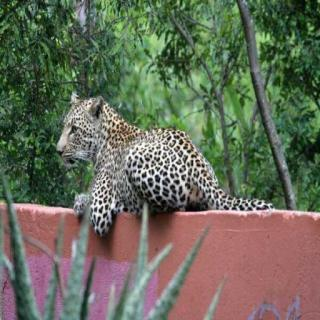Leopard: (49, 57, 237, 230)
